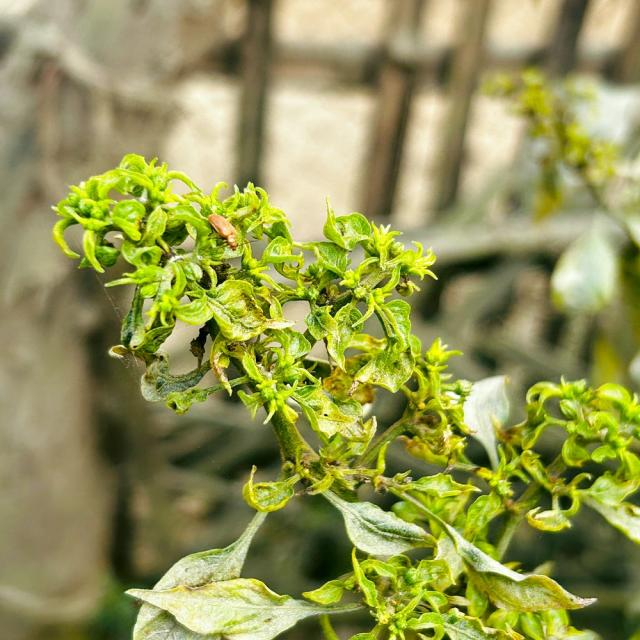Chilli_Leaf_Curl: (50, 152, 637, 638), (51, 150, 457, 502)
